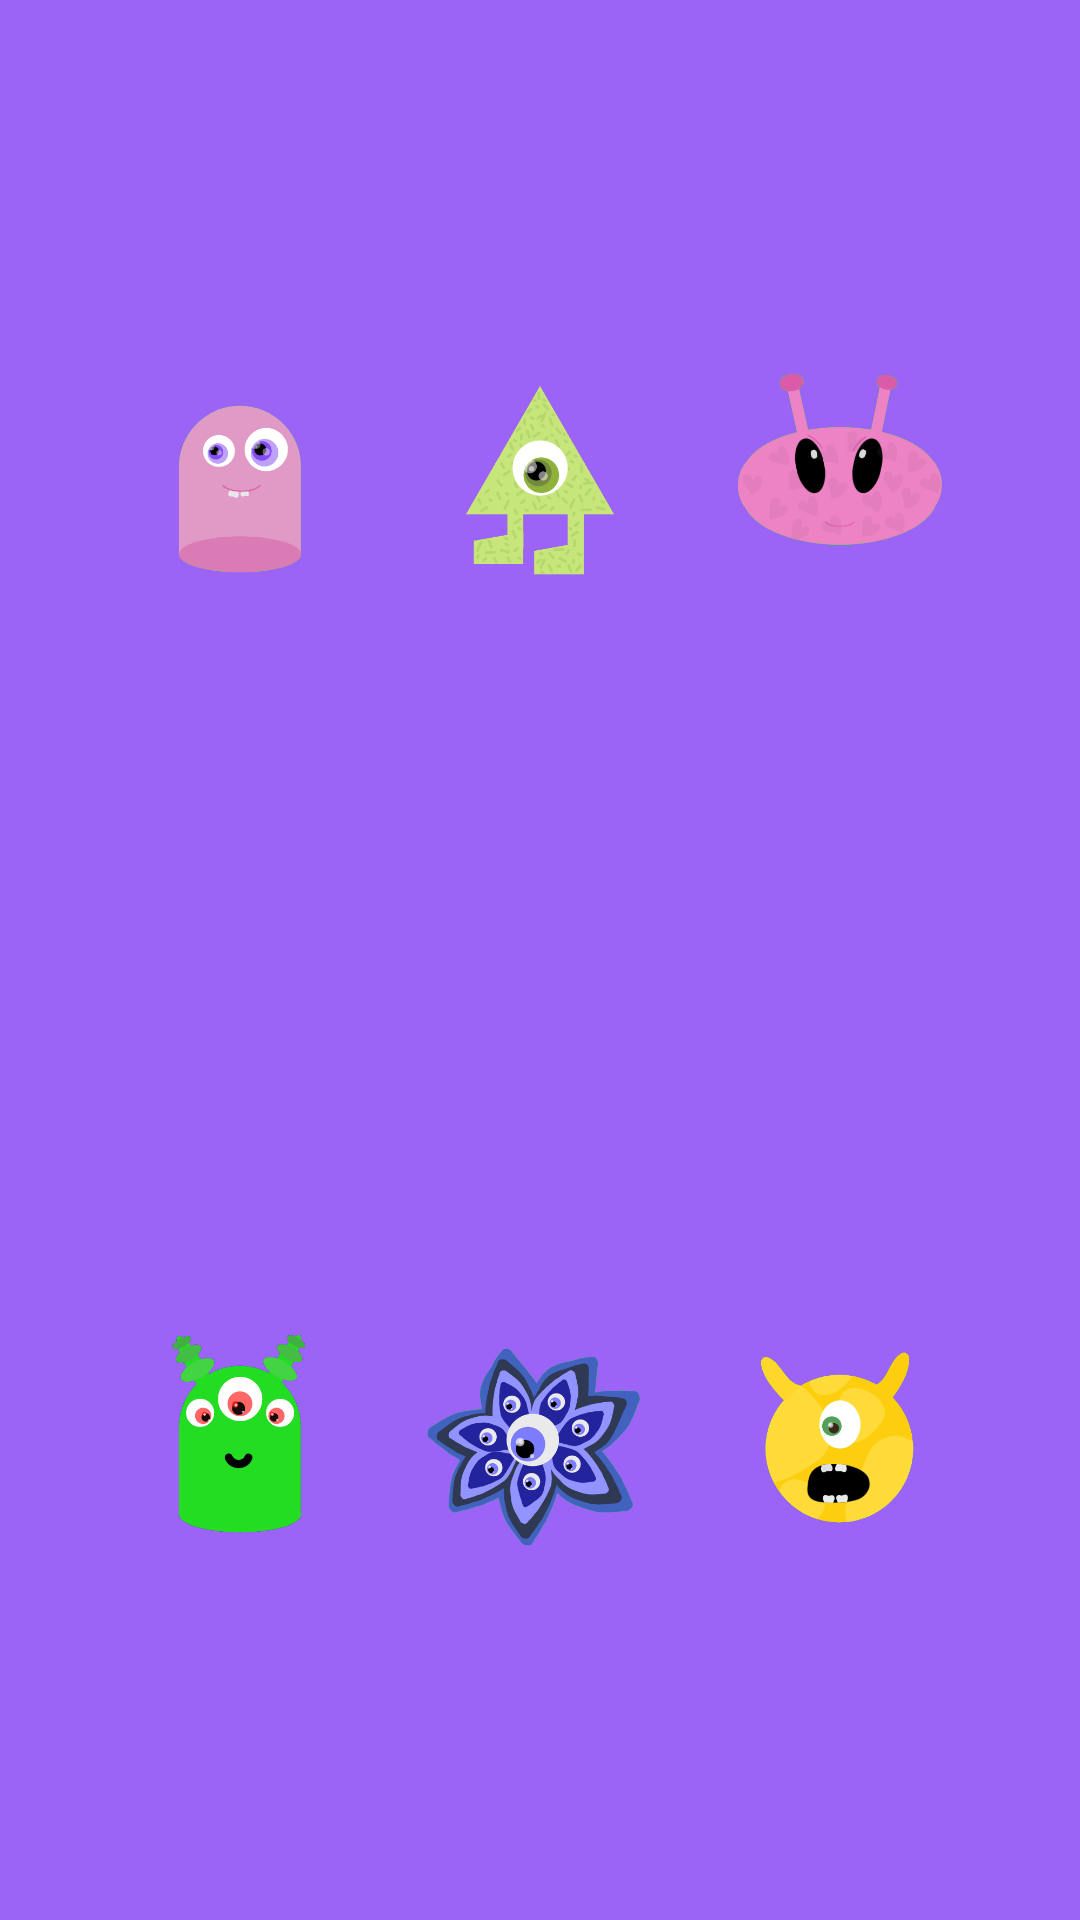

Icons on this 1080 x 1920 Android screen, each with the point to tap as [x,y]:
sticker: [840,459], [540,480], [240,489], [239,1434], [533,1447], [837,1437]
